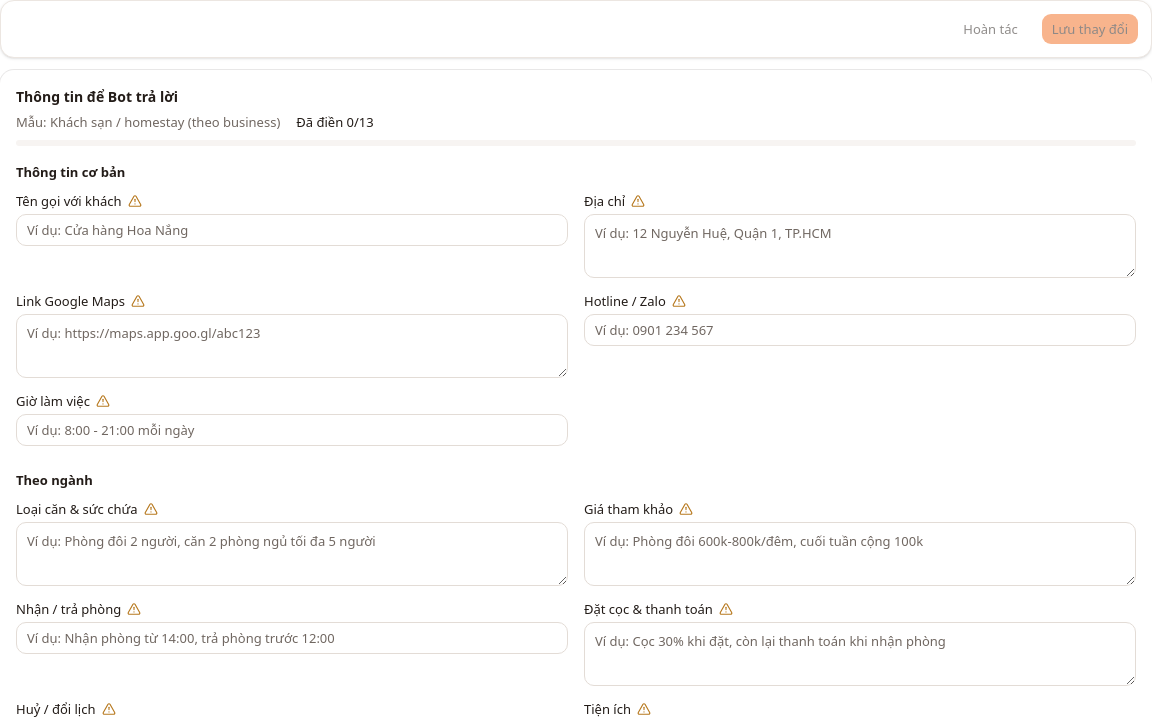
Test: BusinessProfileForm › rejects a Google Maps link that is not https
The image size is (1152, 720).
Check: the field labelled "Tên gọi với khách" is shown, box [16,214,568,246]
Type "http://maps.example" into the text box labelled "Link Google Maps".
click(292, 346); type("http://maps.example")  # box [16,314,568,378]
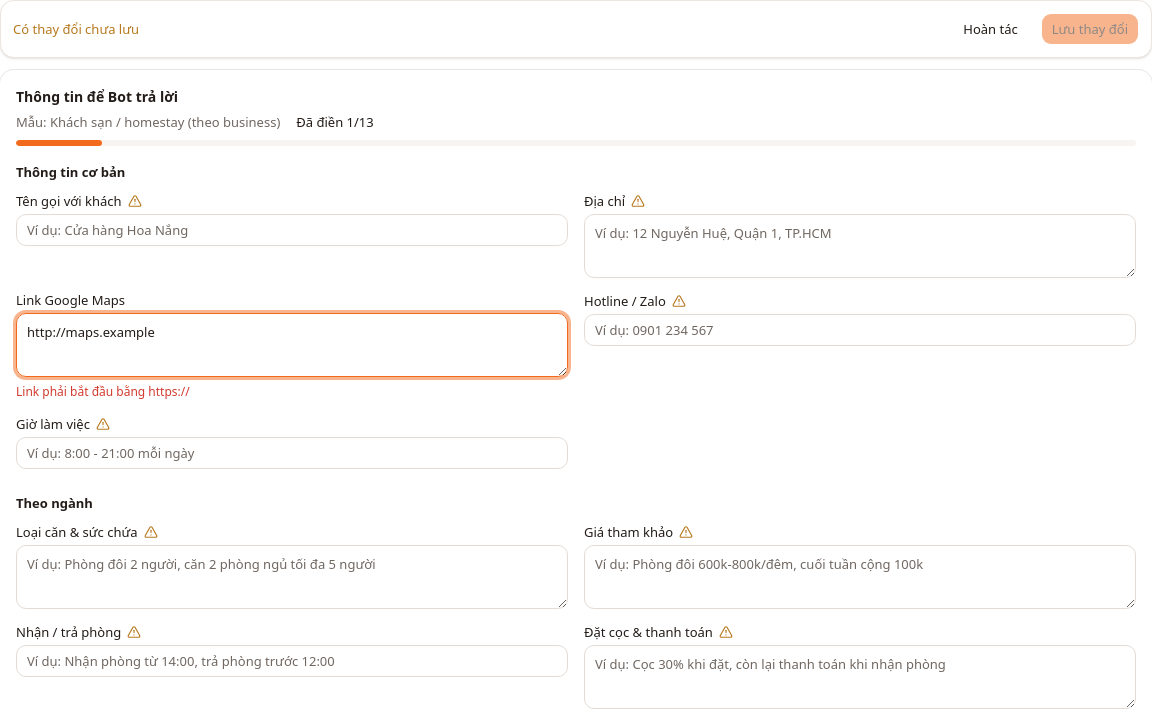
Check: the button "Lưu thay đổi" is disabled, box [1041,13,1139,45]
Check: the text "Link phải bắt đầu bằng https://" is shown, box [16,383,190,400]
